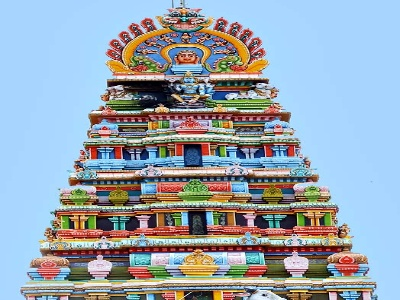gopura: (26, 51, 380, 289)
